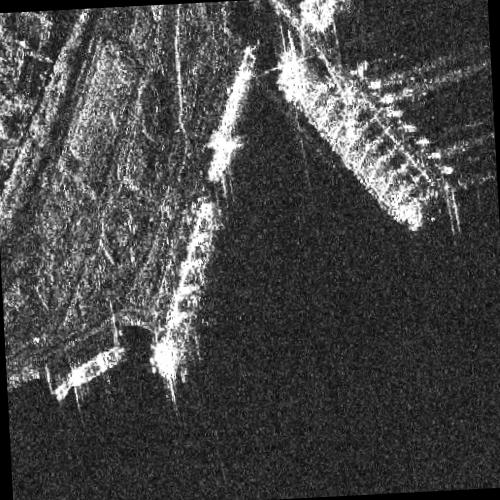ship: (274, 46, 422, 234), (147, 199, 218, 383), (67, 346, 126, 390)
